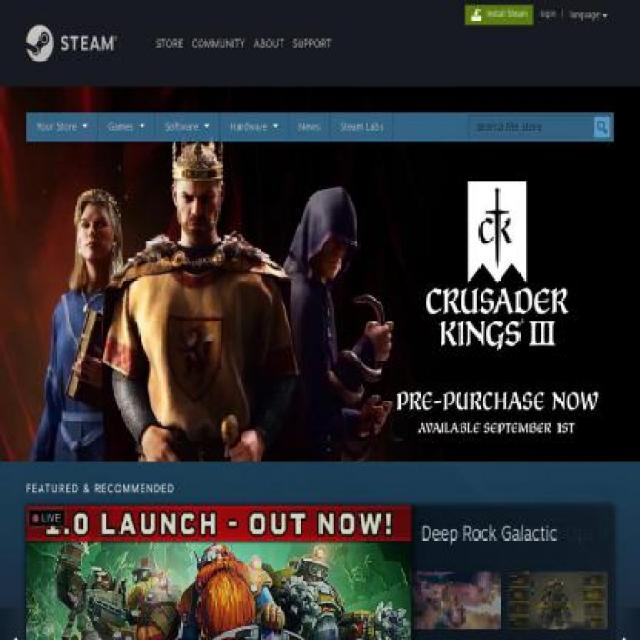button: (0, 142, 640, 463), (26, 506, 614, 640), (188, 0, 249, 57), (288, 0, 335, 57), (249, 0, 288, 57), (150, 0, 188, 57), (329, 112, 394, 143), (465, 6, 533, 26), (288, 112, 330, 143)
field: (477, 117, 589, 138)
